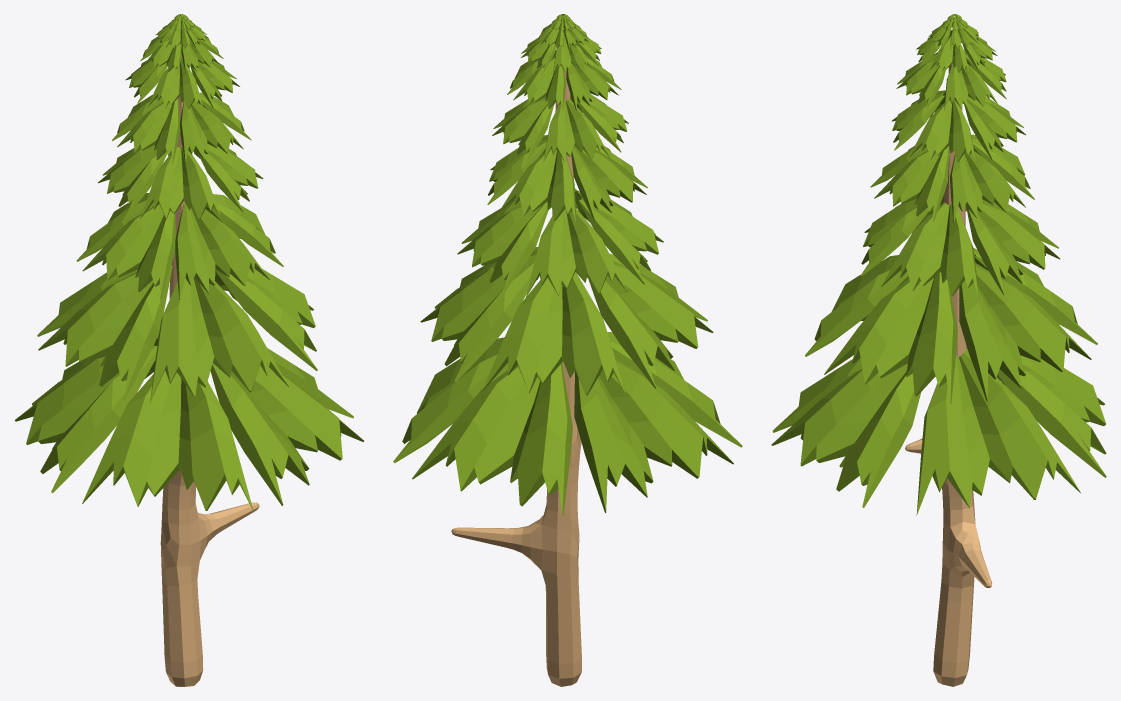
The model's file is uploads_files_2919179_low-poly+pine+tree.fbx.
The picture shows the model from 3 angles, left to right: view 1: azimuth 30°, elevation 25°; view 2: azimuth 150°, elevation 25°; view 3: azimuth 270°, elevation 25°; orthographic projection.
Parts seen in each view (by area): view 1: Plane.001; view 2: Plane.001; view 3: Plane.001.
Part boxes in pixels (x1,y1,x2,y2): Plane.001: (14, 14, 363, 686); Plane.001: (393, 14, 742, 686); Plane.001: (771, 14, 1106, 686).
Size of the model in its own units: 155 by 326 by 148.
